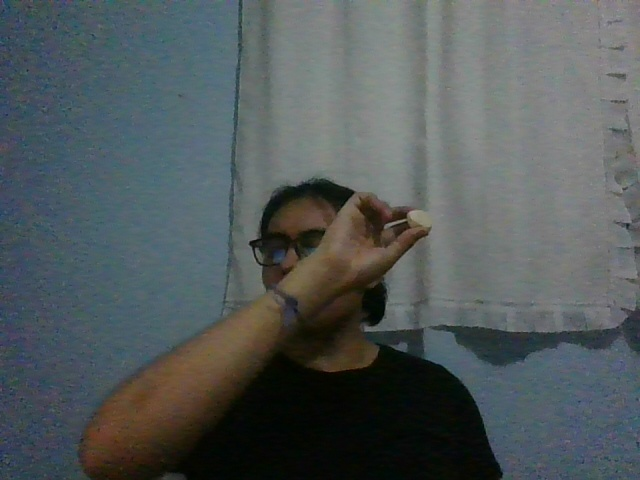goma: (407, 210, 432, 233)
